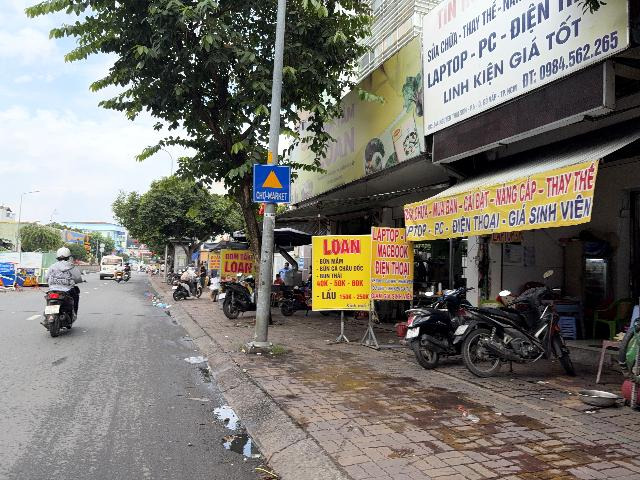khu-vuc-cho-phia-truoc: (253, 164, 291, 204)
